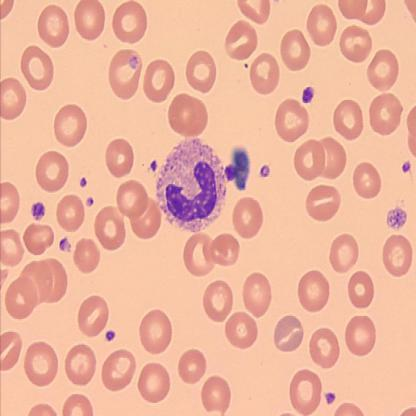Band Neutrophil: (154, 134, 229, 235)
